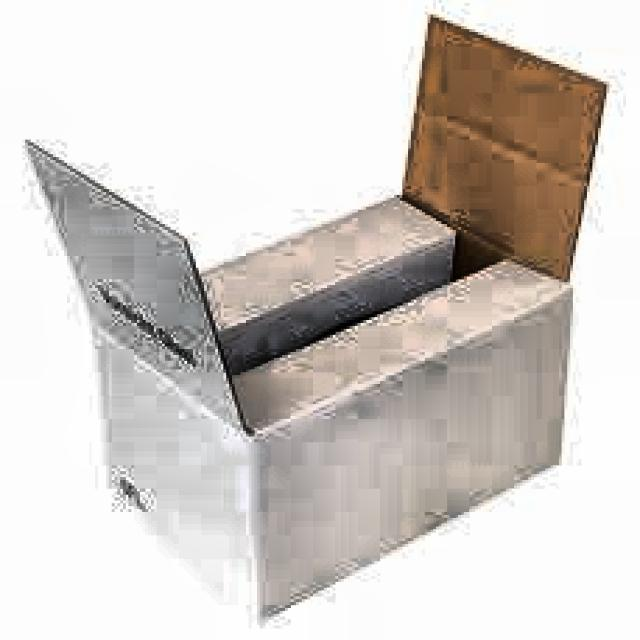Cardbox: (0, 4, 640, 635)
